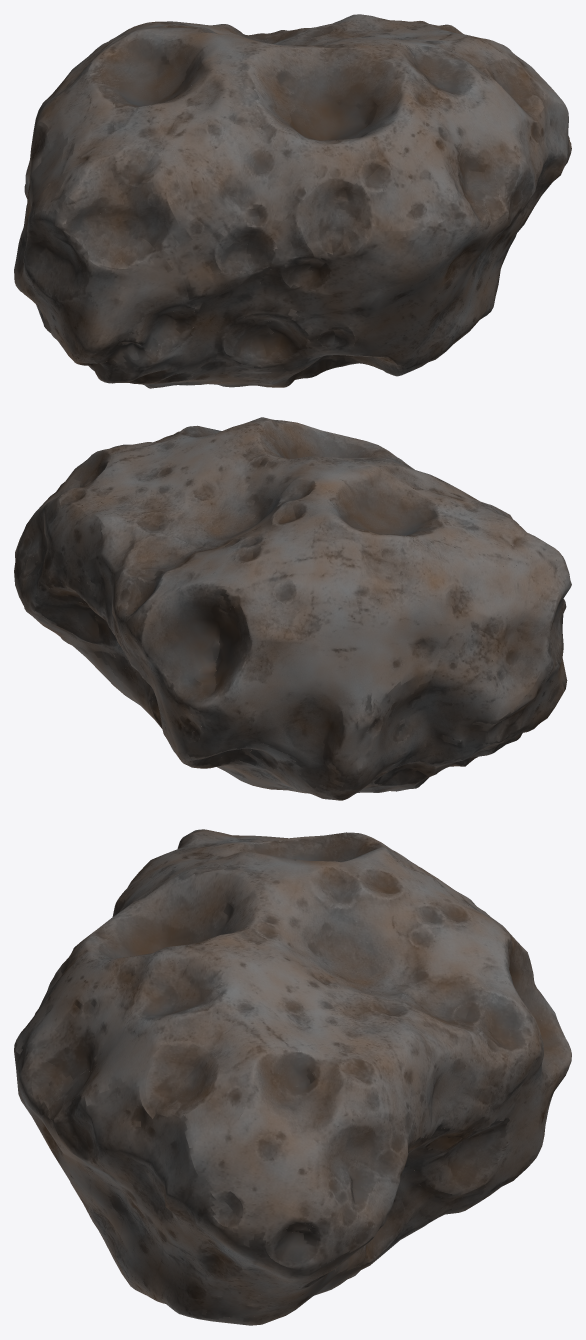
File: asteroide_20000.obj
3 views of the same model, one above another, from view 1: azimuth 30°, elevation 25°; view 2: azimuth 150°, elevation 25°; view 3: azimuth 270°, elevation 25° (orthographic). The views are drawn at different scales.
Size of the model in its own units: 7.19 by 4.26 by 5.62.
1 material, 1 textured.
